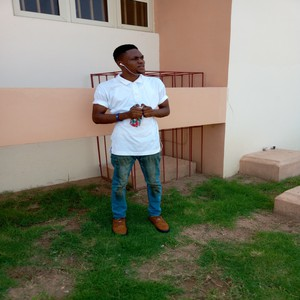Fulokoja_male_student: (95, 45, 167, 231)
